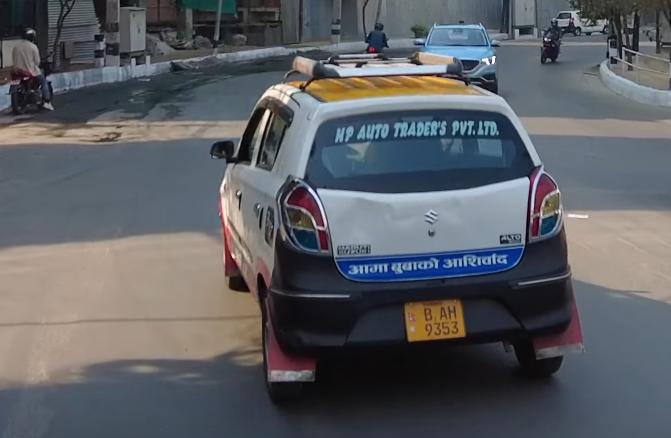bike: (538, 26, 565, 64)
car: (419, 23, 501, 96)
taxi: (207, 44, 592, 393)
